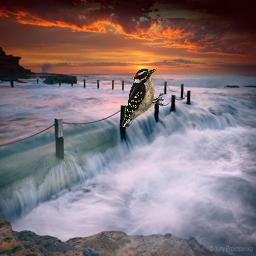Woodpecker: (122, 68, 164, 127)
